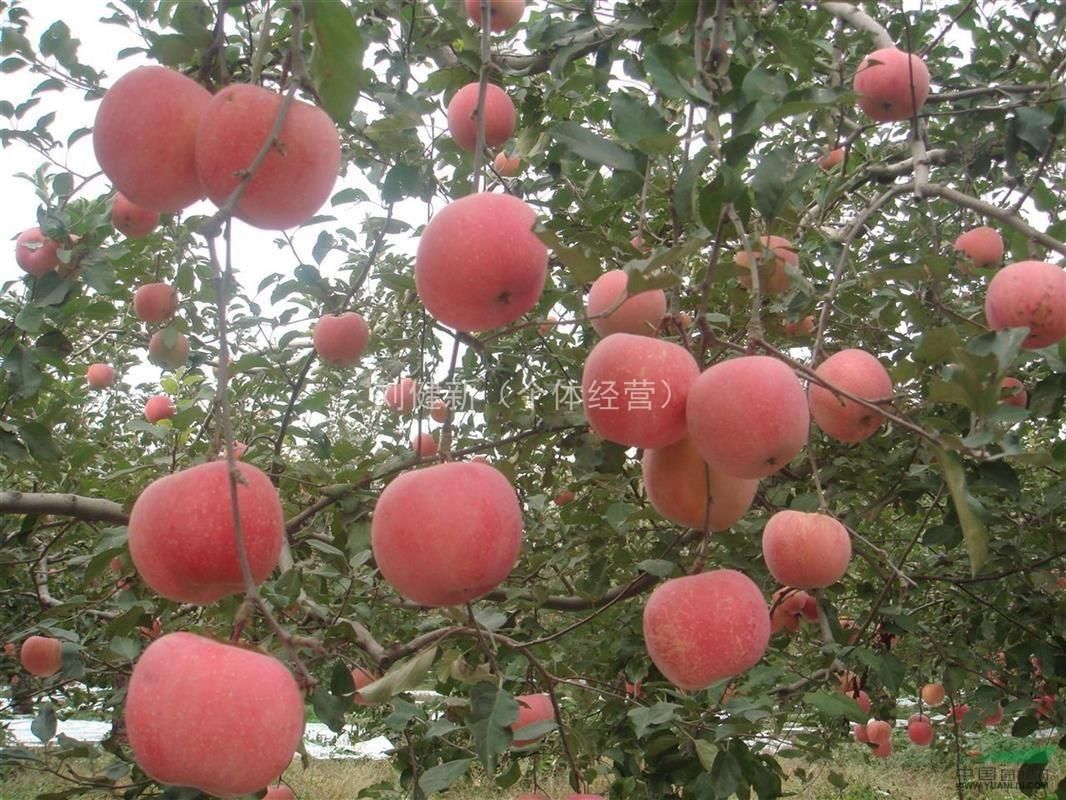apple: (125, 627, 307, 793), (128, 451, 289, 606), (369, 461, 525, 605), (97, 60, 212, 226), (206, 85, 335, 232), (417, 192, 548, 331), (650, 578, 773, 693), (692, 356, 809, 472), (584, 333, 698, 448), (808, 347, 895, 444), (984, 259, 1066, 350), (764, 511, 853, 591), (855, 45, 932, 123), (446, 80, 517, 158), (313, 311, 369, 366), (15, 228, 63, 276), (112, 191, 161, 238), (954, 226, 1005, 267), (134, 282, 181, 326), (149, 327, 190, 369), (145, 395, 176, 424), (818, 146, 849, 175)
